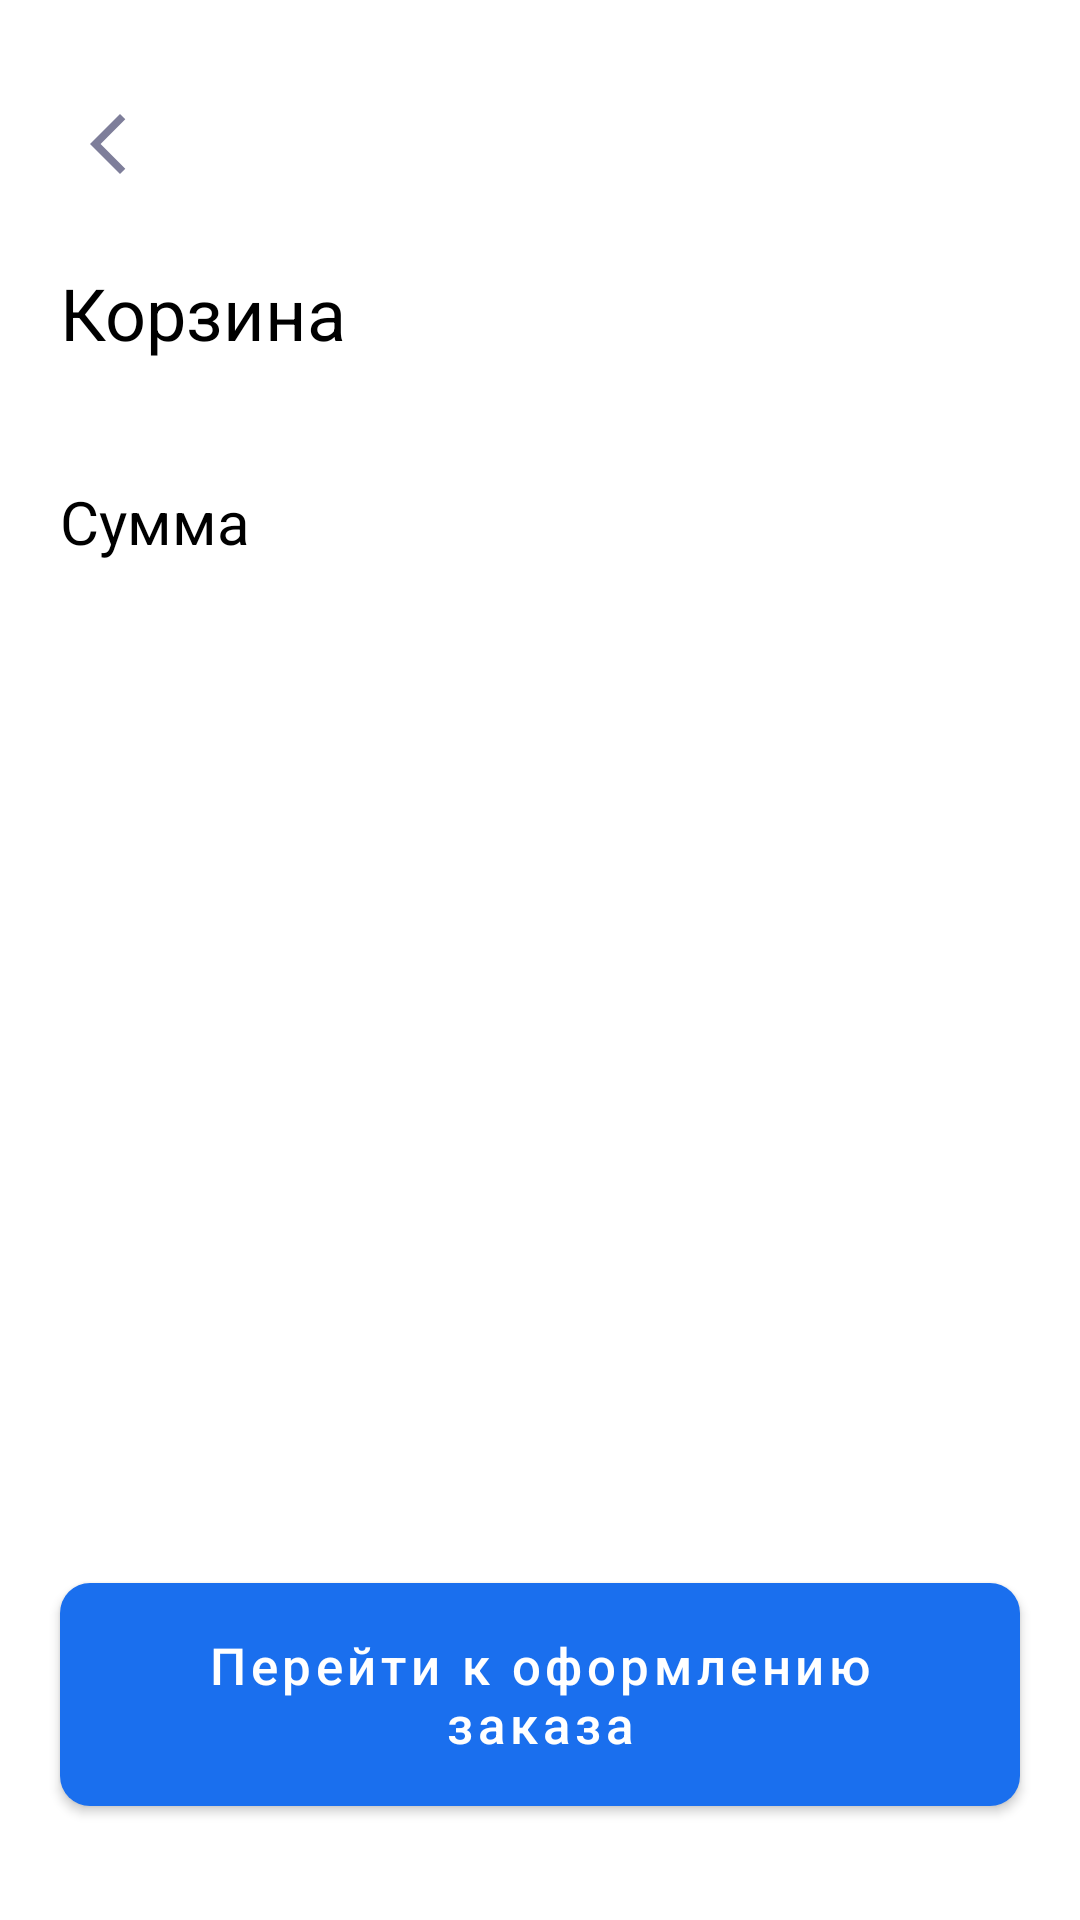

Screen size 1080 × 1920. Icon name, then its center in pixels as [x,y]:
arrow back: [107,144]
